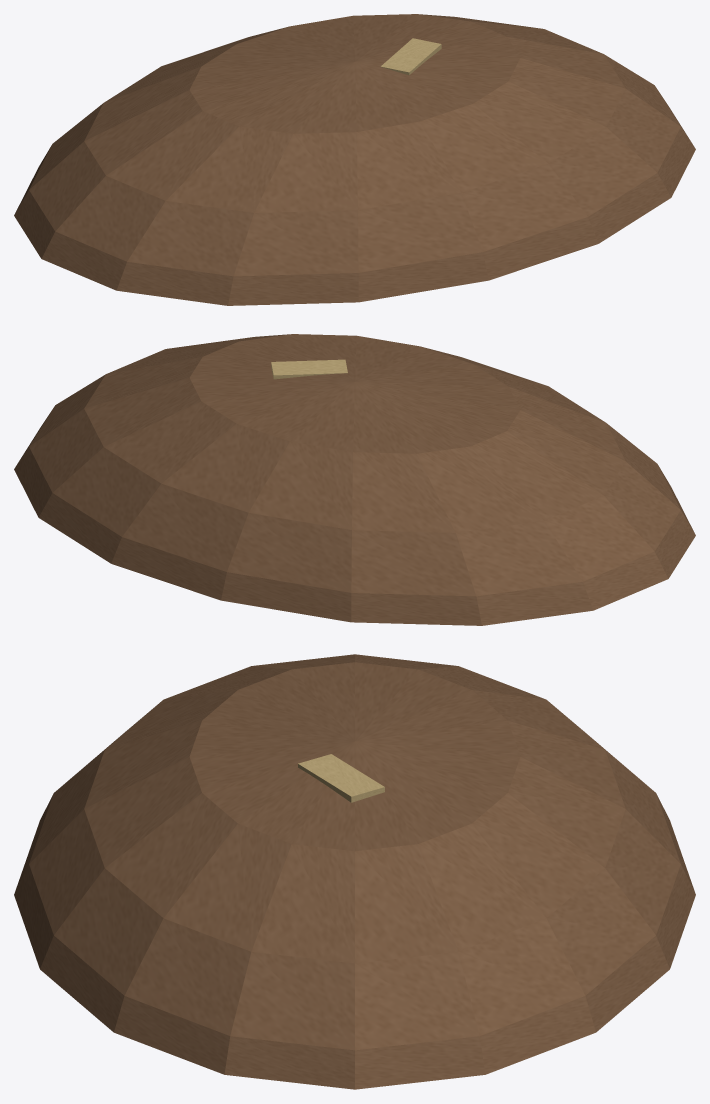
File: burial_mound.obj
3 renders of one model, top to bottom at view 1: azimuth 30°, elevation 25°; view 2: azimuth 150°, elevation 25°; view 3: azimuth 270°, elevation 25°, orthographic. The views are drawn at different scales.
Parts seen in each view (by area): view 1: burial_mound; view 2: burial_mound; view 3: burial_mound.
Boxes of the visible parts, x1,y1,x2,y2 form: burial_mound: [14, 14, 695, 305]; burial_mound: [14, 334, 695, 625]; burial_mound: [14, 654, 695, 1089].
Size of the model in its own units: 13.6 by 2.5 by 10.06.
Materials: 1 (1 with a texture image).
